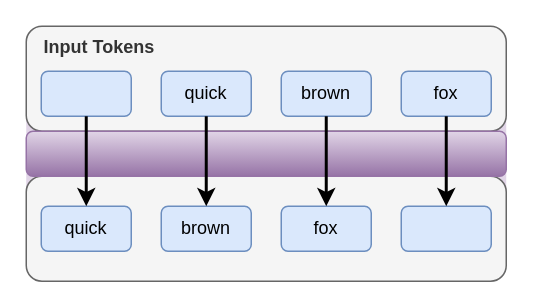
Some shapes in this 533 by 308 pixel diagram are drawn without their labels. The box of each missing label's shape, as (x1, y1, x2, y2) in pixels:
jumps: (400, 205, 491, 251)
LLM: (25, 130, 506, 176)
Output logits (predictions): (25, 175, 506, 281)
The: (40, 70, 131, 116)
